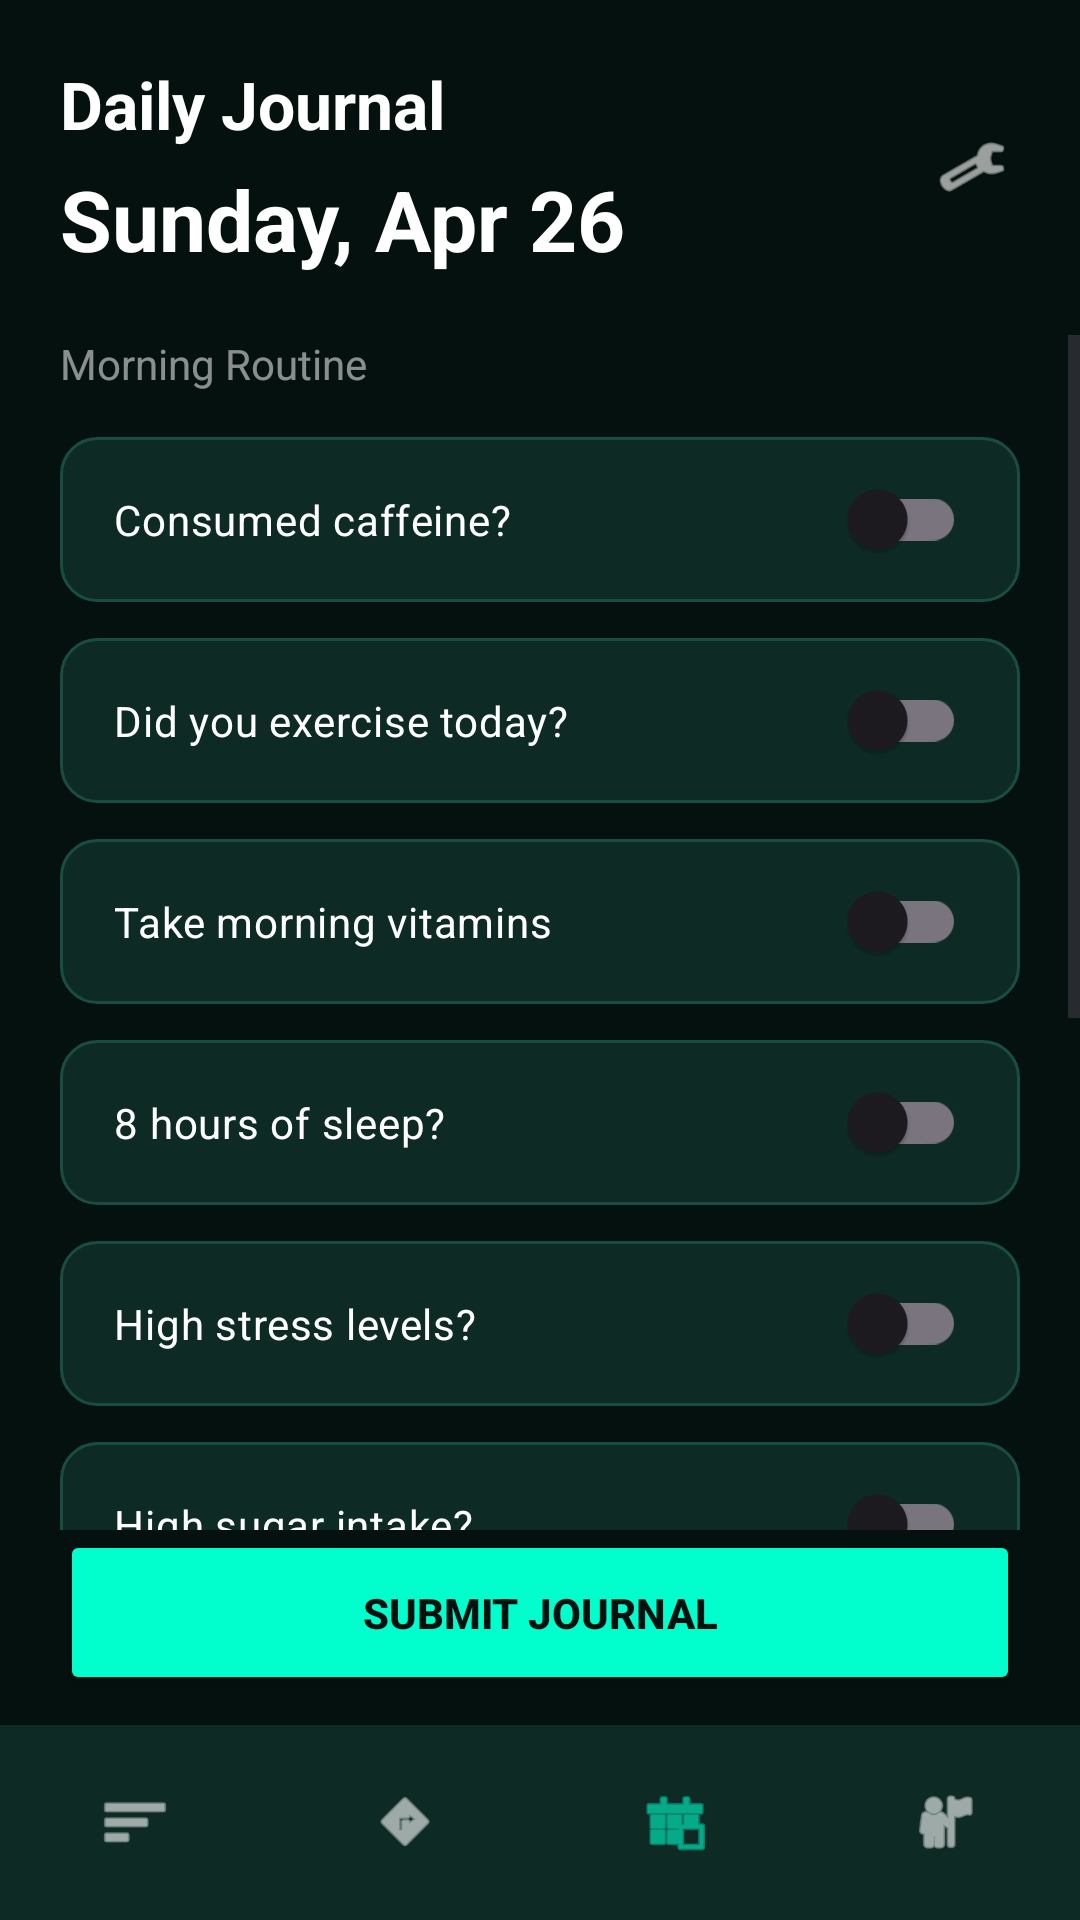

Named icons in this screenshot (1080×1920) and their centers, point (x, y):
directions: point (405, 1821)
manage: point (971, 167)
myplaces: point (946, 1822)
sort by size: point (135, 1822)
today: point (675, 1823)
